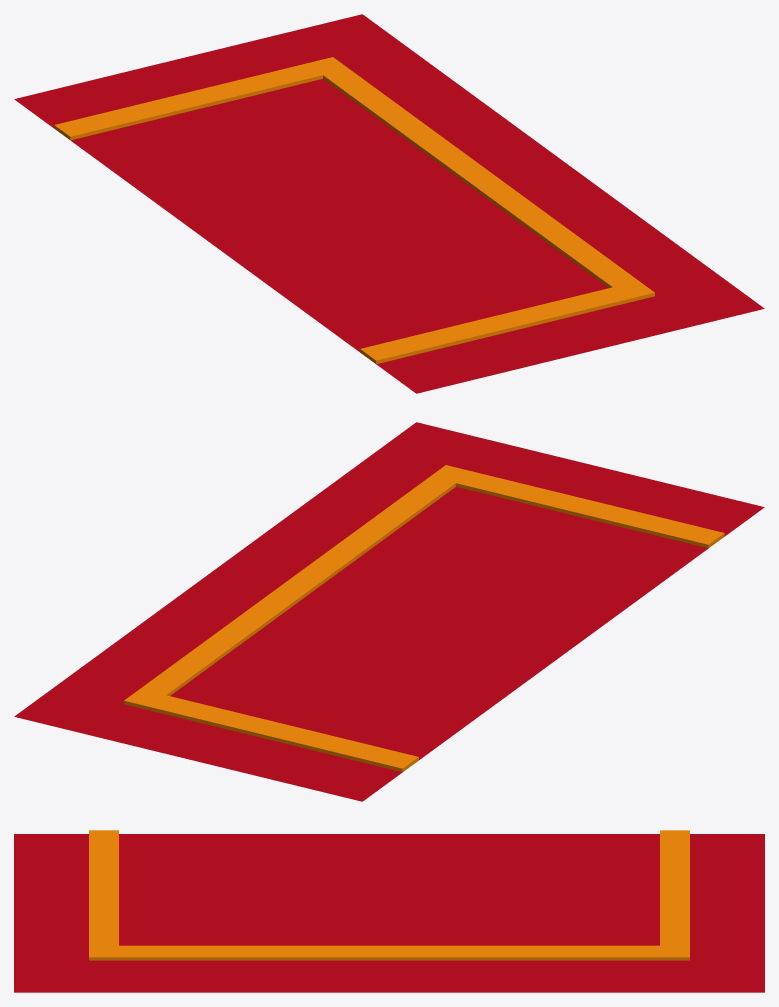
The model's file is Jutan_typeB.fbx.
The picture shows the model from 3 angles, top to bottom: view 1: azimuth 30°, elevation 25°; view 2: azimuth 150°, elevation 25°; view 3: azimuth 270°, elevation 25°; orthographic projection. The views are drawn at different scales.
Parts seen in each view (by area): view 1: Plane; view 2: Plane; view 3: Plane.
Boxes of the visible parts, x1,y1,x2,y2 form: Plane: [14, 14, 764, 393]; Plane: [14, 422, 764, 801]; Plane: [14, 830, 764, 992].
Size of the model in its own units: 100 by 1 by 200.
